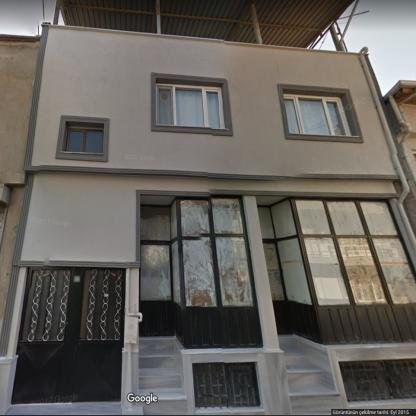door: (13, 266, 125, 404), (263, 241, 292, 334)
window: (260, 198, 414, 304), (141, 196, 255, 309), (157, 82, 226, 129), (340, 360, 414, 400), (283, 93, 353, 135), (193, 364, 258, 406), (61, 120, 105, 155)
